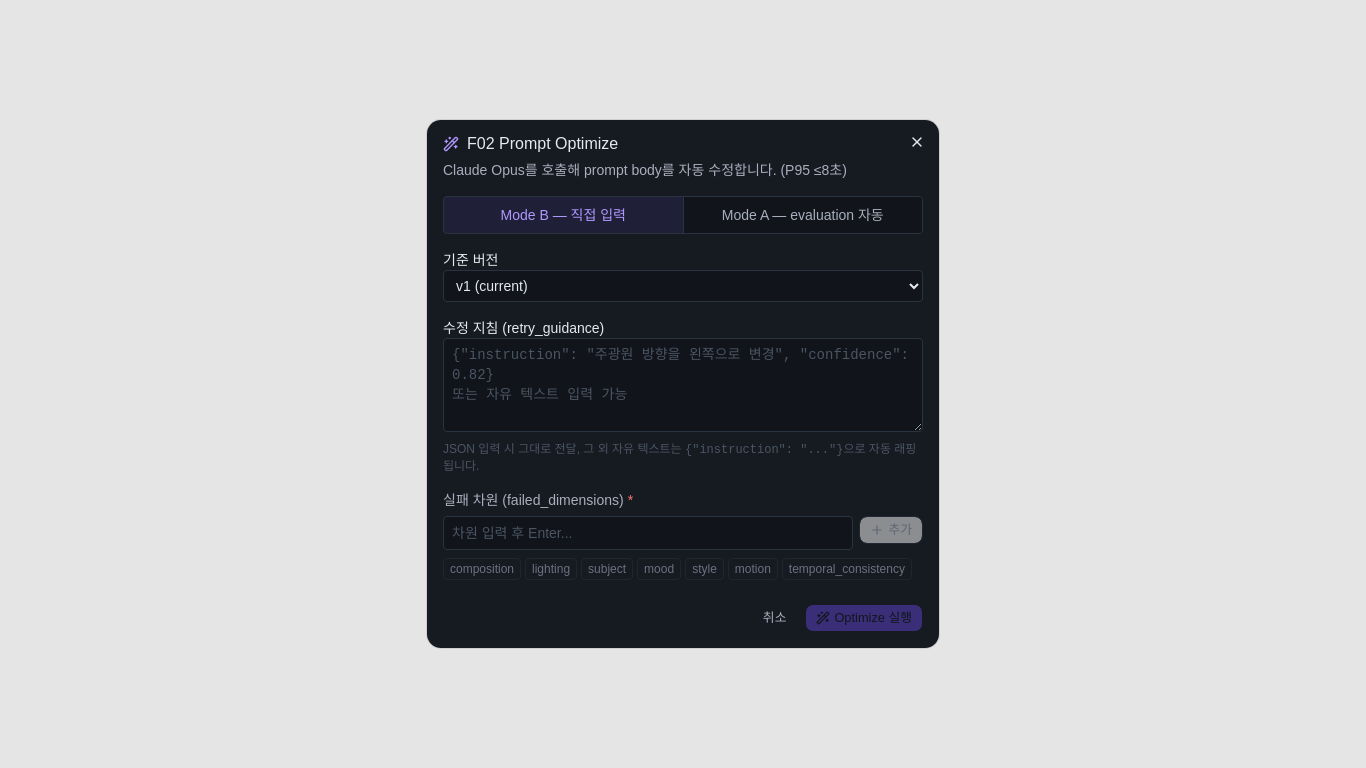
Test: OptimizeDialog › succeeded=false 응답 시 failureReason이 표시되고 다이얼로그가 유지된다
Select "v1 (current)" in the dropdown named "기준 버전 선택". click: (683, 286)
box: [443,270,923,302]
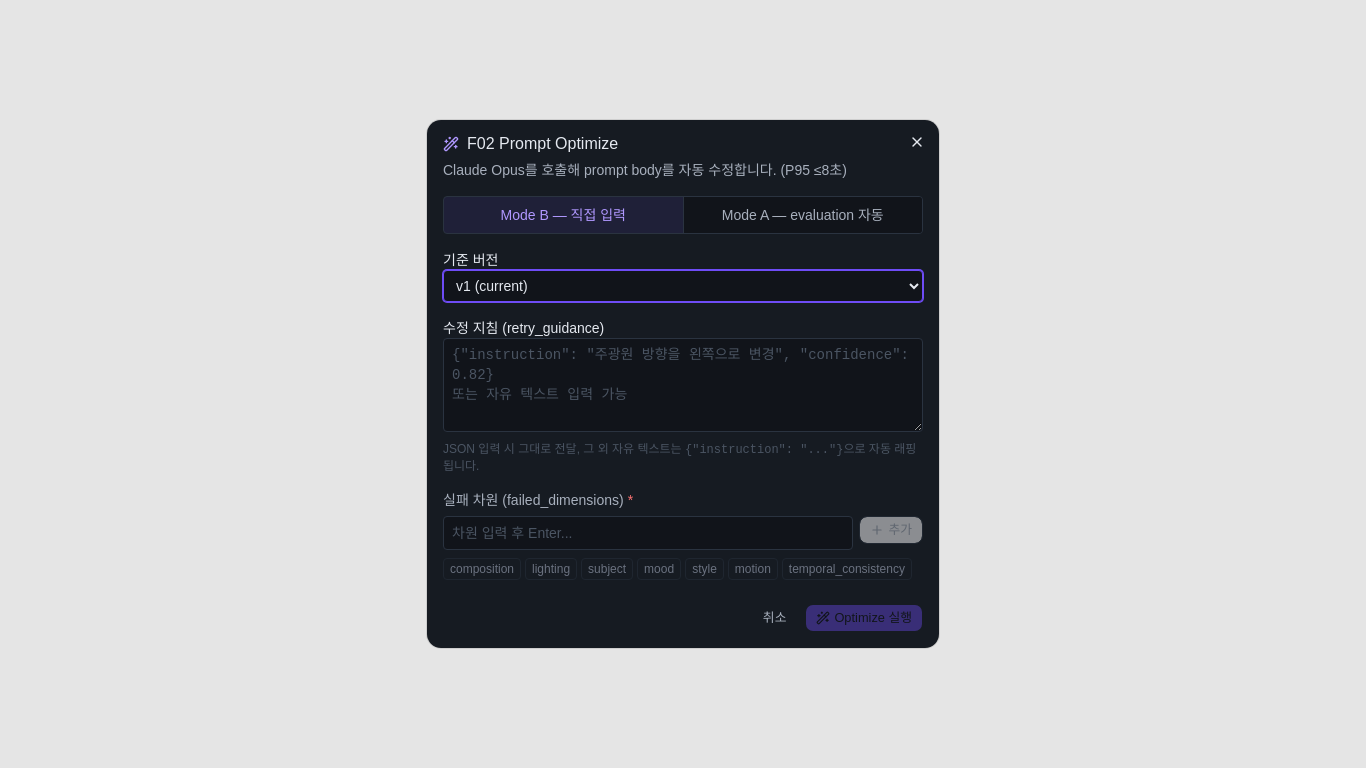
Type "수정 지침" into the text box named "수정 지침 입력". click: (683, 385)
box: [443,338,923,432]
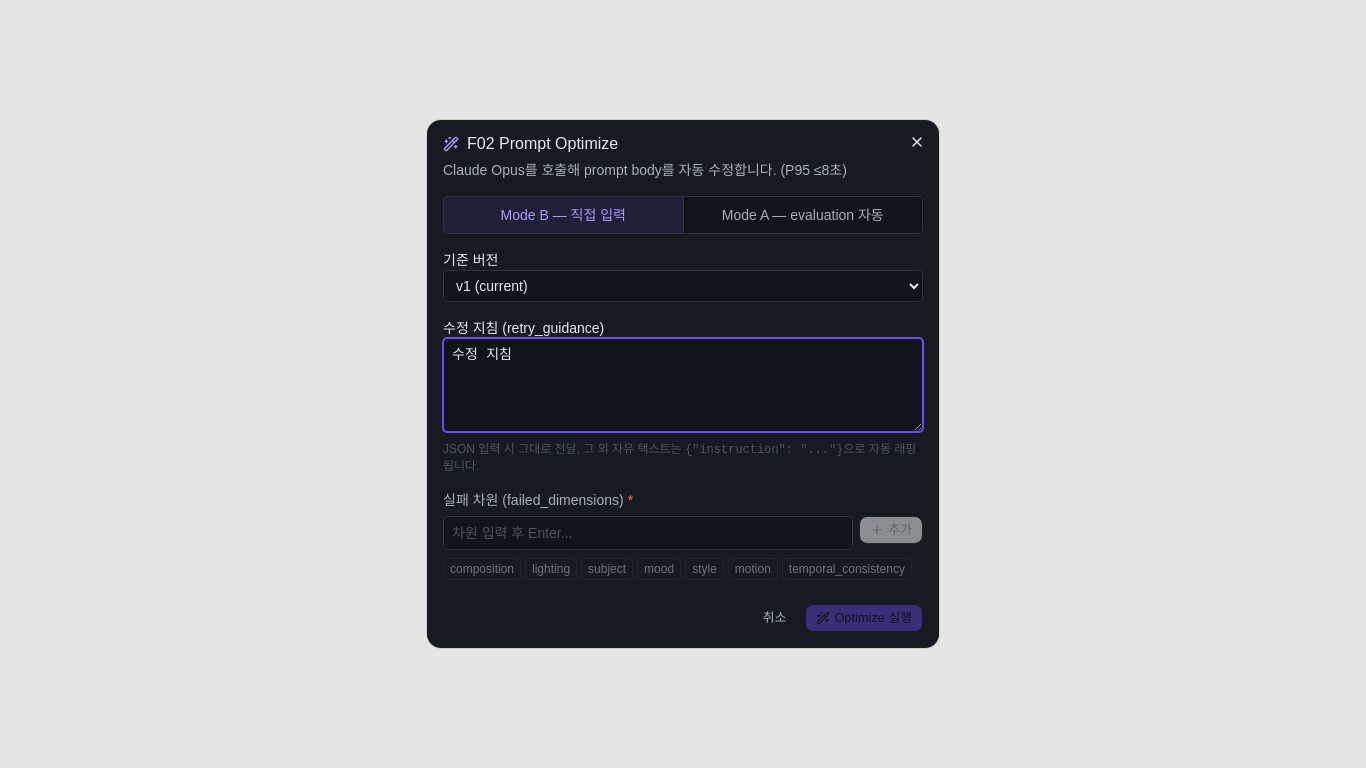
Type "composition" into the field named "실패 차원 입력". click: (648, 533)
box: [443,516,854,550]
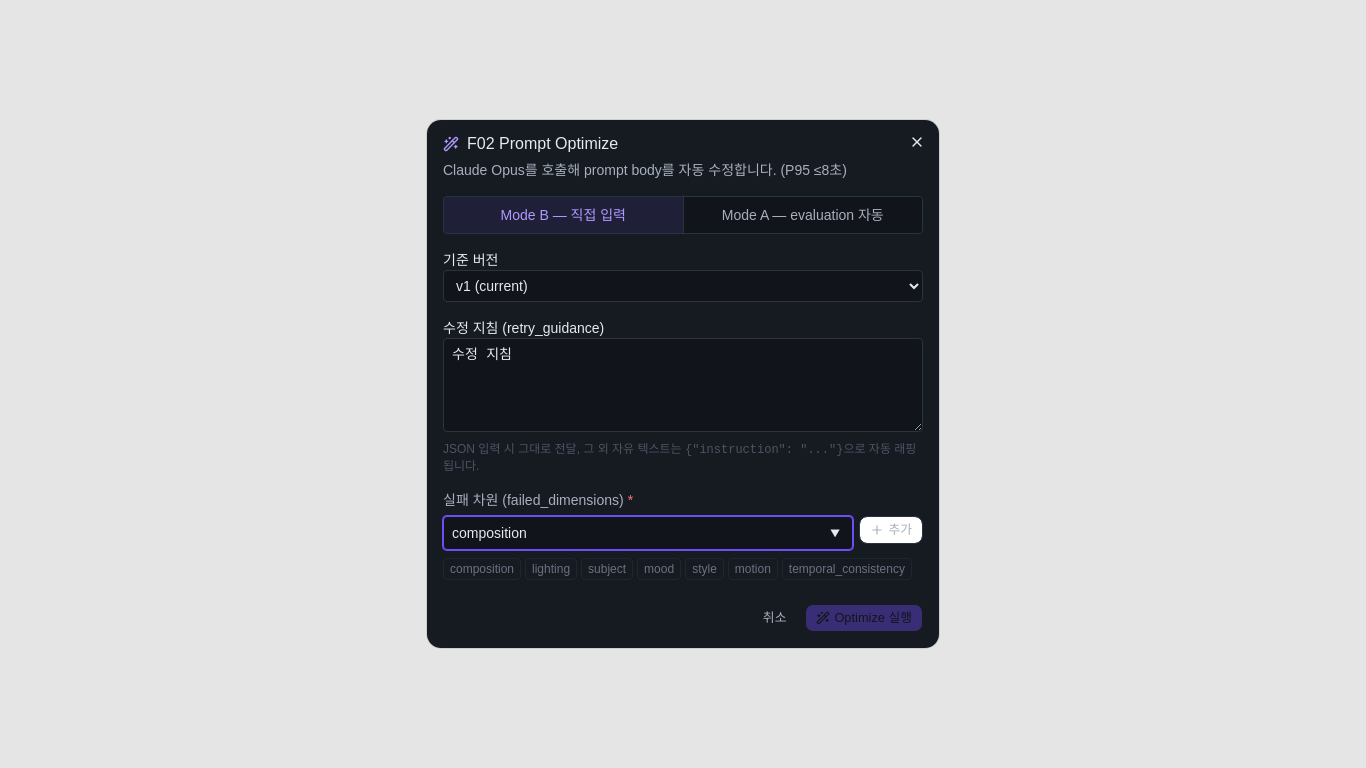
Click the button with aria-label "차원 추가". click: (891, 530)
box: [860,516,923,544]
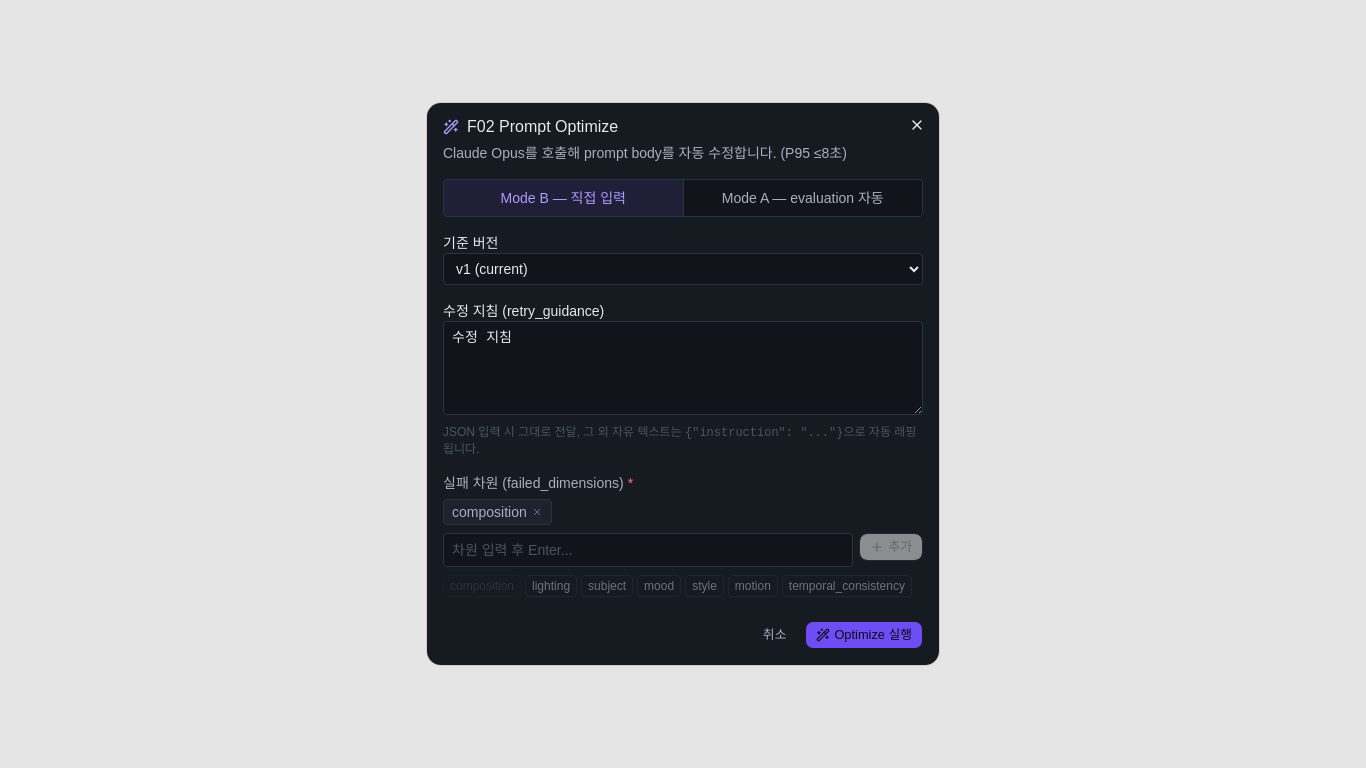
Click the button "Optimize 실행". click: (864, 635)
box: [805,621,923,649]
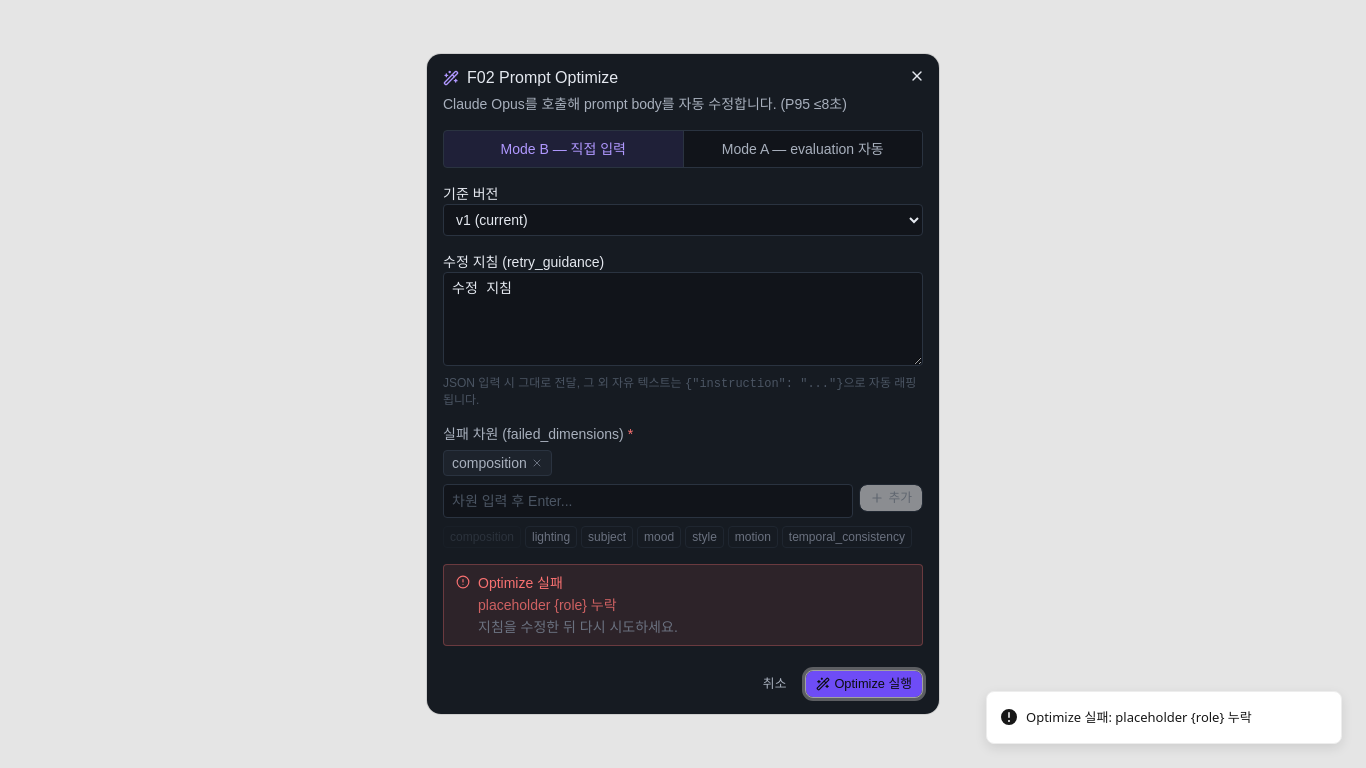
Expected: the text "placeholder {role} 누락" is shown, [478,597,617,613]
